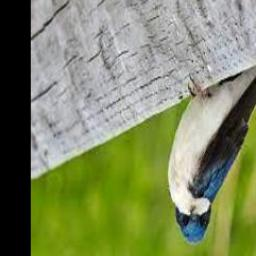Swallow: (168, 57, 256, 244)
